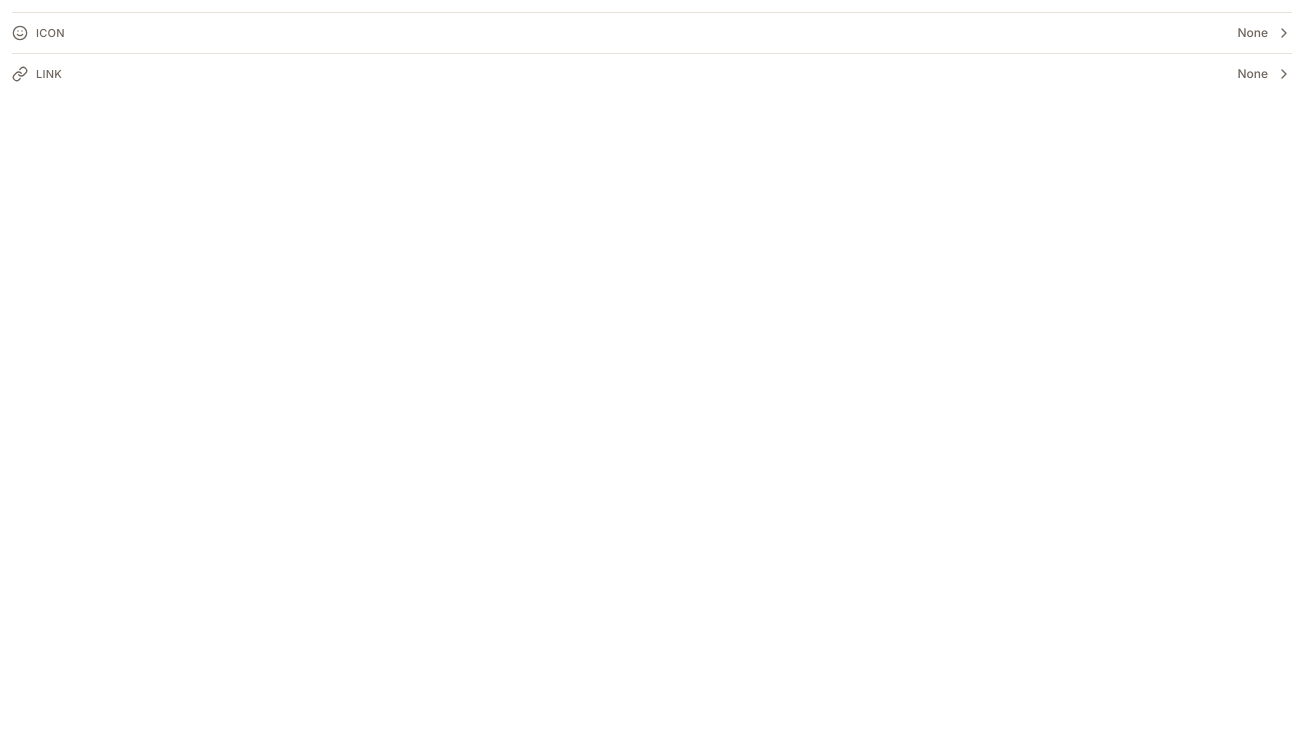
Test: shows an inline error and never saves javascript:bad()
The image size is (1304, 732).
Expected: the field labelled "Link Address" is not shown
Step 1. Click the button "Icon None" → click(1253, 32), box [12,13,1292,53]
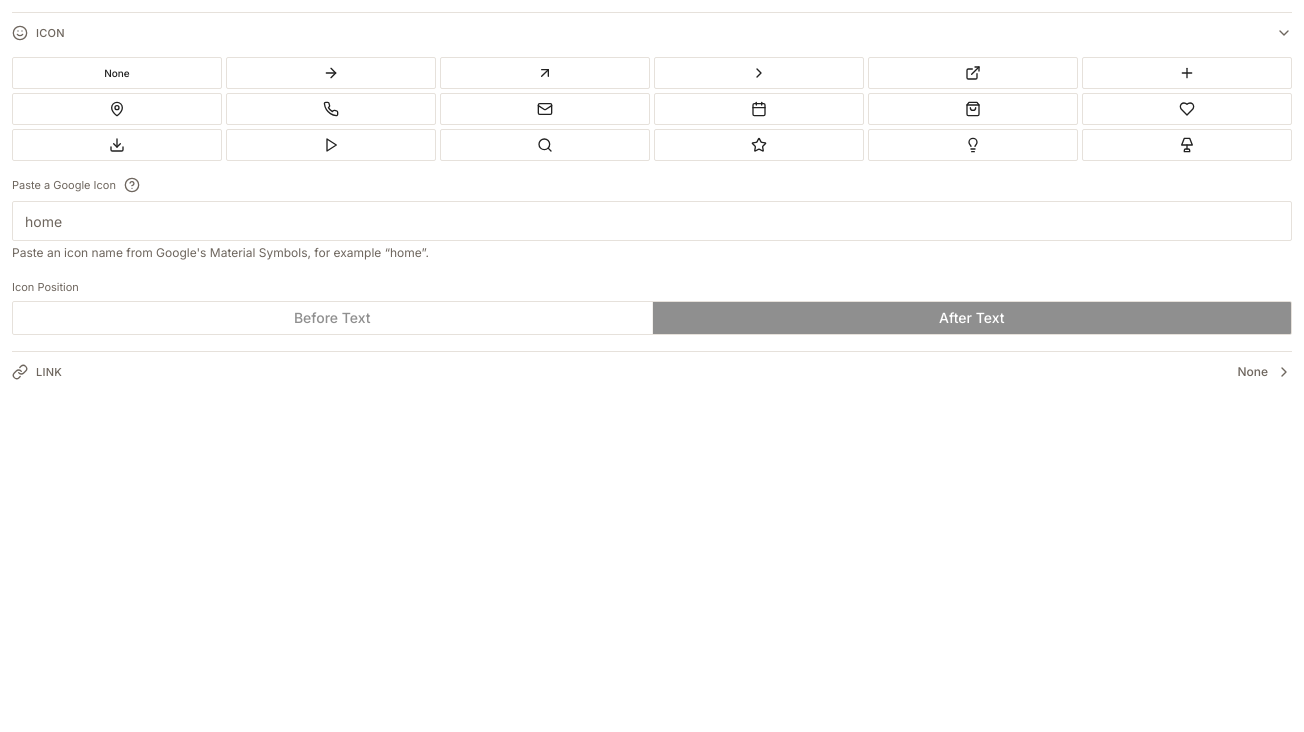
Step 2. Click the button "Link None" → click(1253, 372), box [12,352,1292,392]
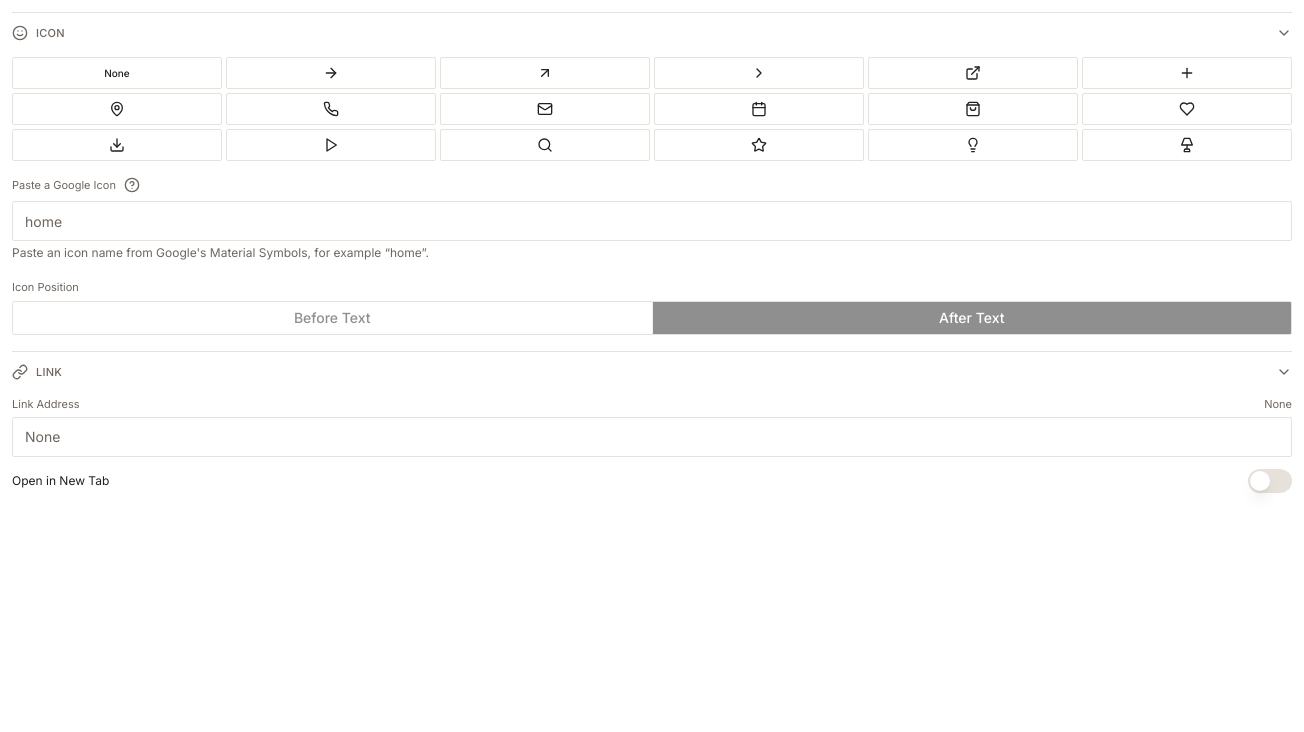
Step 3. Type "javascript:bad()" into the field labelled "Link Address" → (652, 436), box [12,416,1292,456]
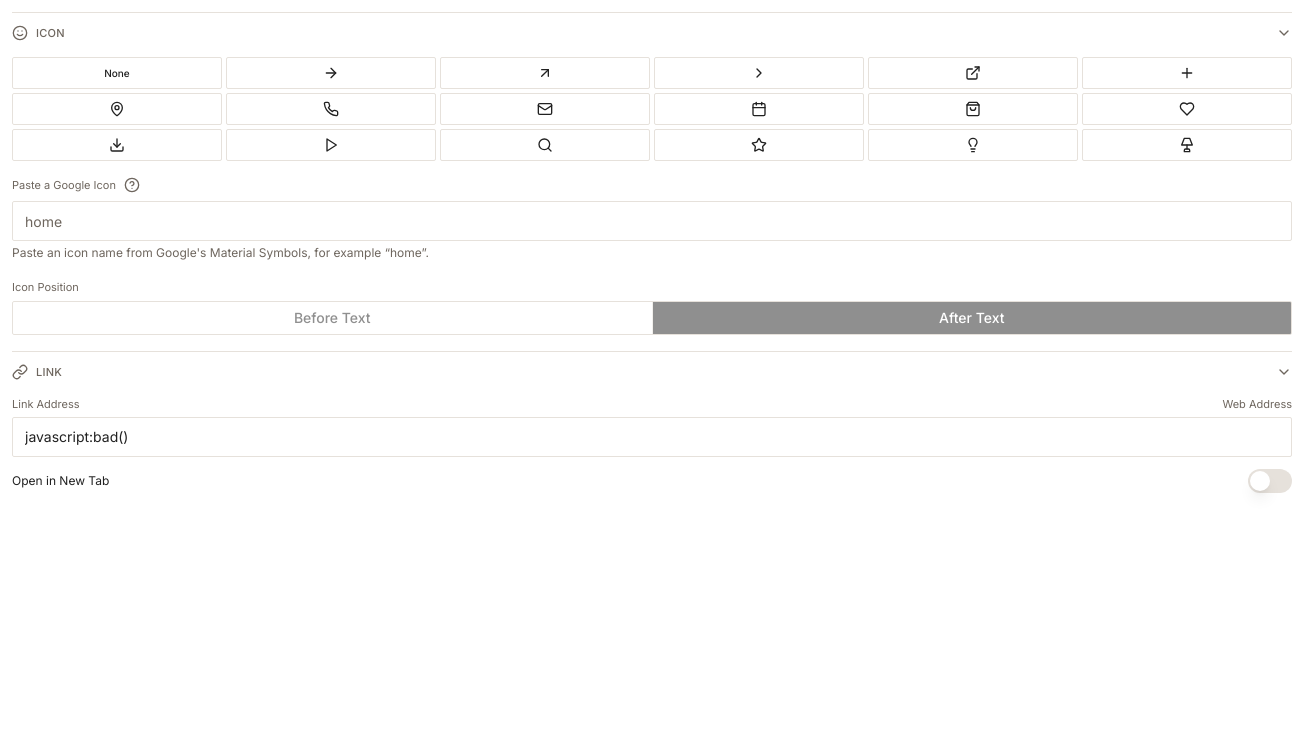
Step 4. Leave the field labelled "Link Address", box [12,416,1292,456]
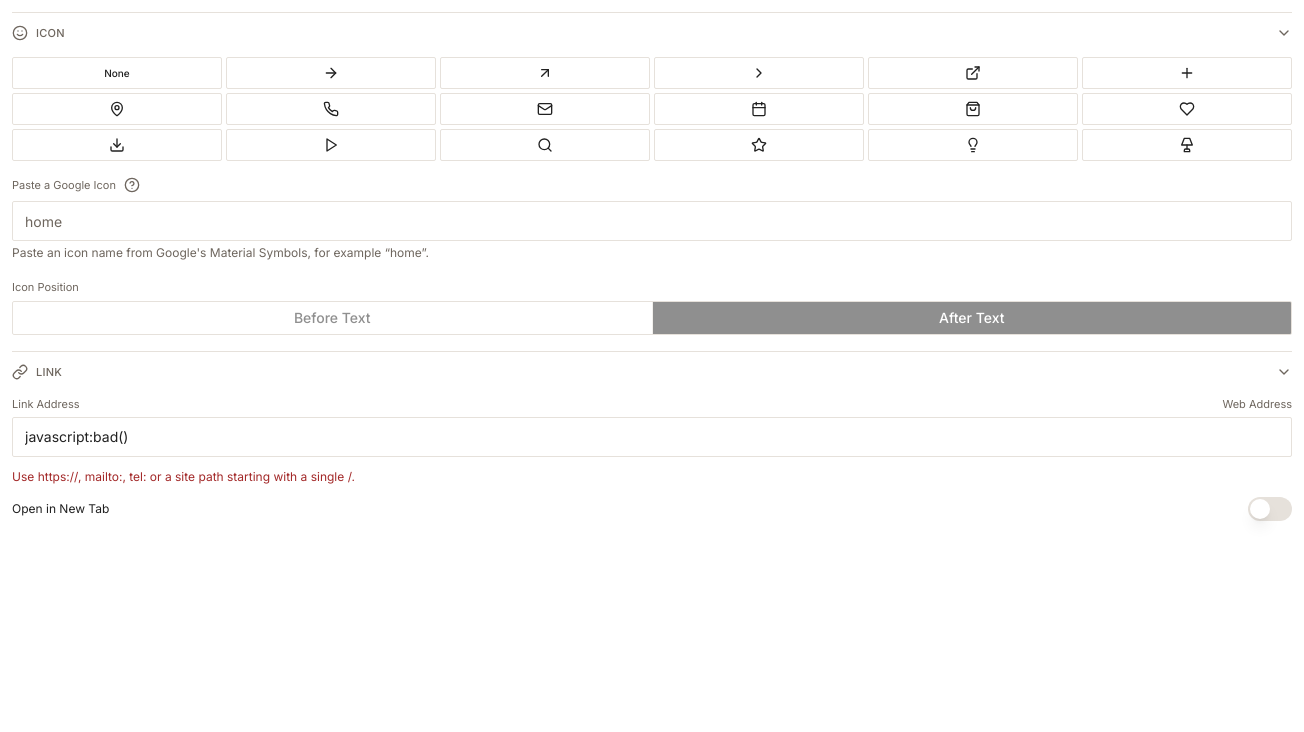
Now the message "Use https://, mailto:, tel: or a site path starting with a single /." is shown, box [12,468,355,484]
